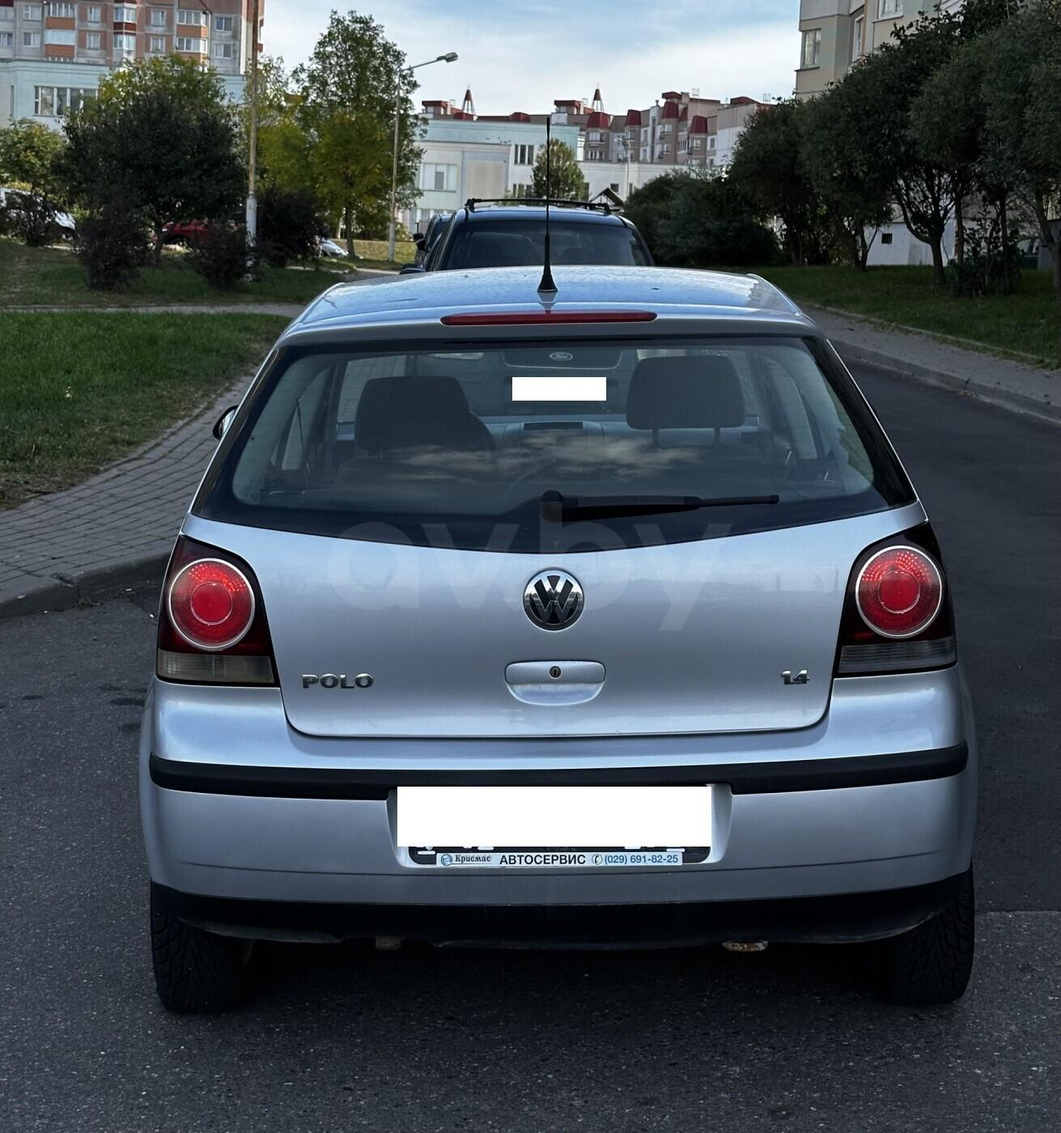Polo_2005-2009: (119, 257, 995, 1013)
